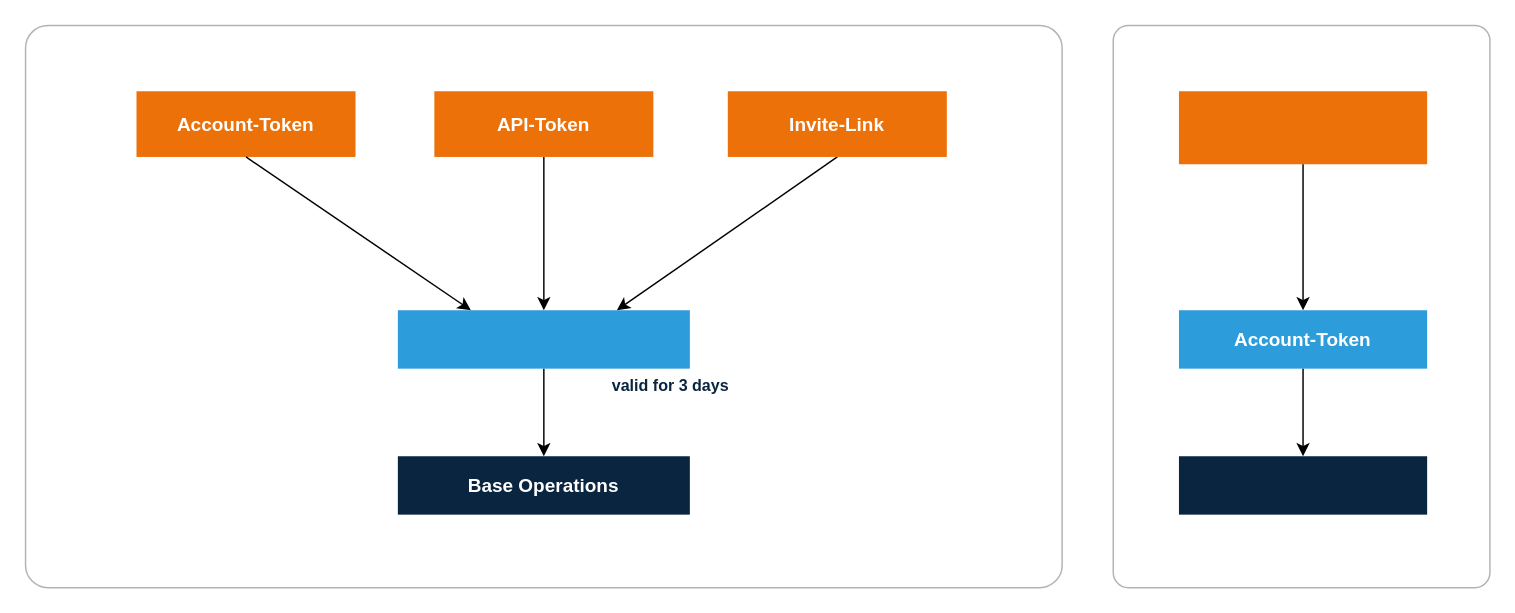
Some shapes in this 1515 by 613 pixel diagram are drawn without their labels. Here are the shapes that lost their labels. From the top down, the centre of each, then its label:
the point at 1302,127: Username + Password
the point at 543,339: Base-Token
the point at 1302,485: Account Operations
